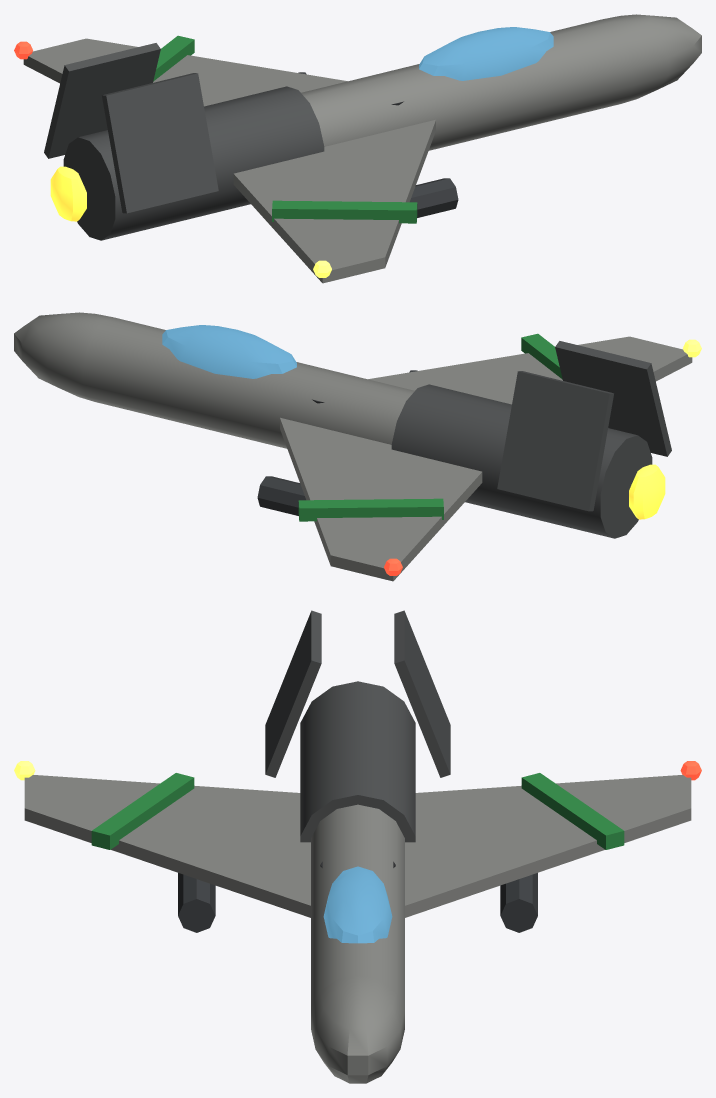
Rendered from u_jet.glb.
The picture shows the model from 3 angles, top to bottom: view 1: azimuth 30°, elevation 25°; view 2: azimuth 150°, elevation 25°; view 3: azimuth 270°, elevation 25°; orthographic projection. The views are drawn at different scales.
Parts seen in each view (by area): view 1: Jet_Walls, Jet_Details; view 2: Jet_Walls, Jet_Details; view 3: Jet_Walls, Jet_Details.
Part boxes in pixels (<box>): Jet_Walls: <box>23,14,701,283</box>; Jet_Details: <box>14,27,553,277</box>; Jet_Walls: <box>14,312,692,581</box>; Jet_Details: <box>162,325,701,575</box>; Jet_Walls: <box>24,610,691,1083</box>; Jet_Details: <box>14,761,701,943</box>.
Size of the model in its own units: 1.53 by 0.3609 by 1.28.
